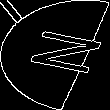N_E: (9, 28, 101, 82)
